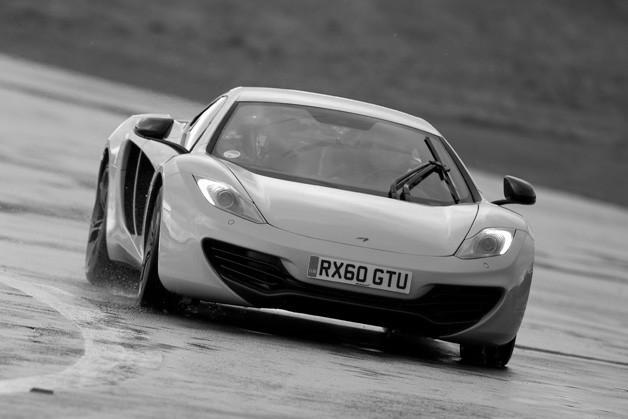car: (83, 82, 539, 374)
